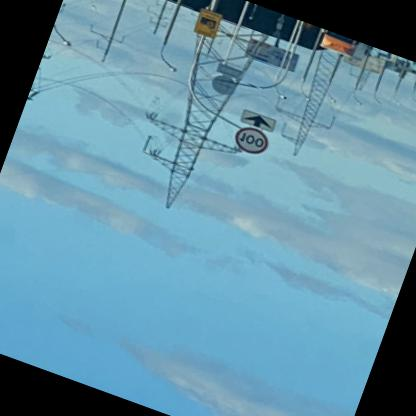speedlimit: (228, 124, 269, 160)
